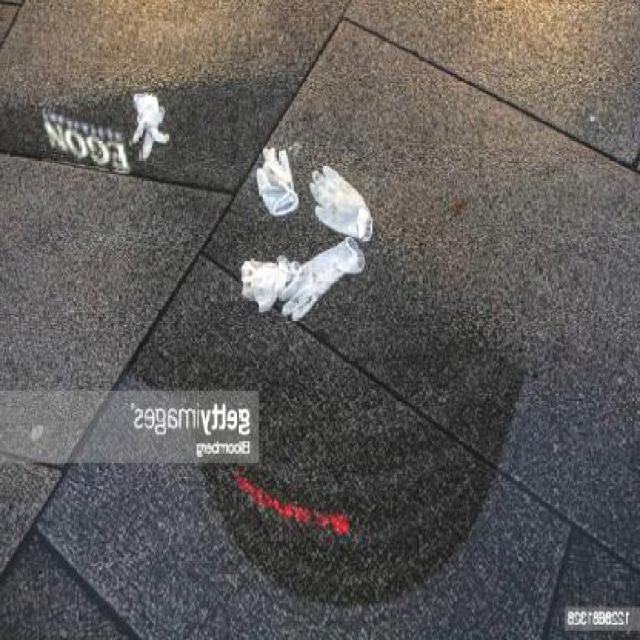glove: (234, 238, 369, 327), (304, 158, 384, 239), (128, 84, 182, 184), (254, 134, 297, 223)
